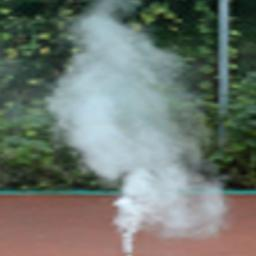smoke: (46, 0, 226, 255)
